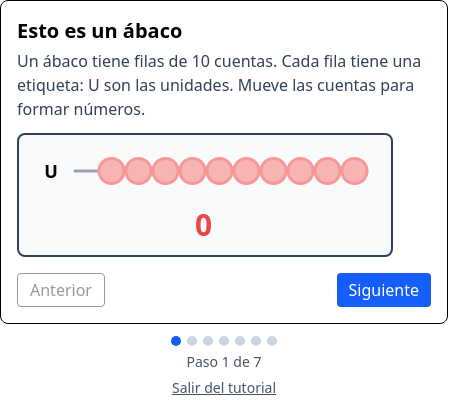
Test: AbacusTutorial › botón Anterior retrocede al paso 1
Click the button "Siguiente" at x=384, y=290, box [336,273,431,307]
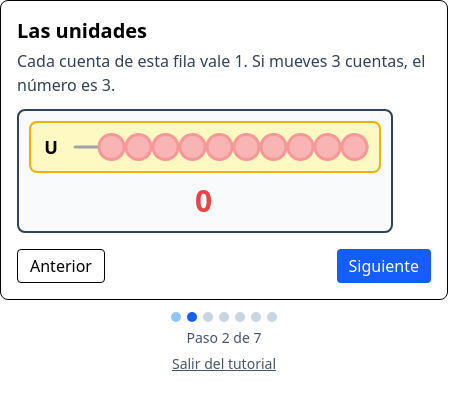
Click the button "Anterior" at x=61, y=266, box [17,249,105,283]
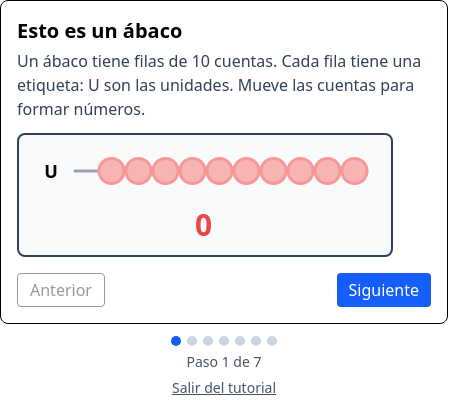
Expected: the heading with test id "tutorial-title" reads "Esto es un ábaco", [17,17,182,44]
